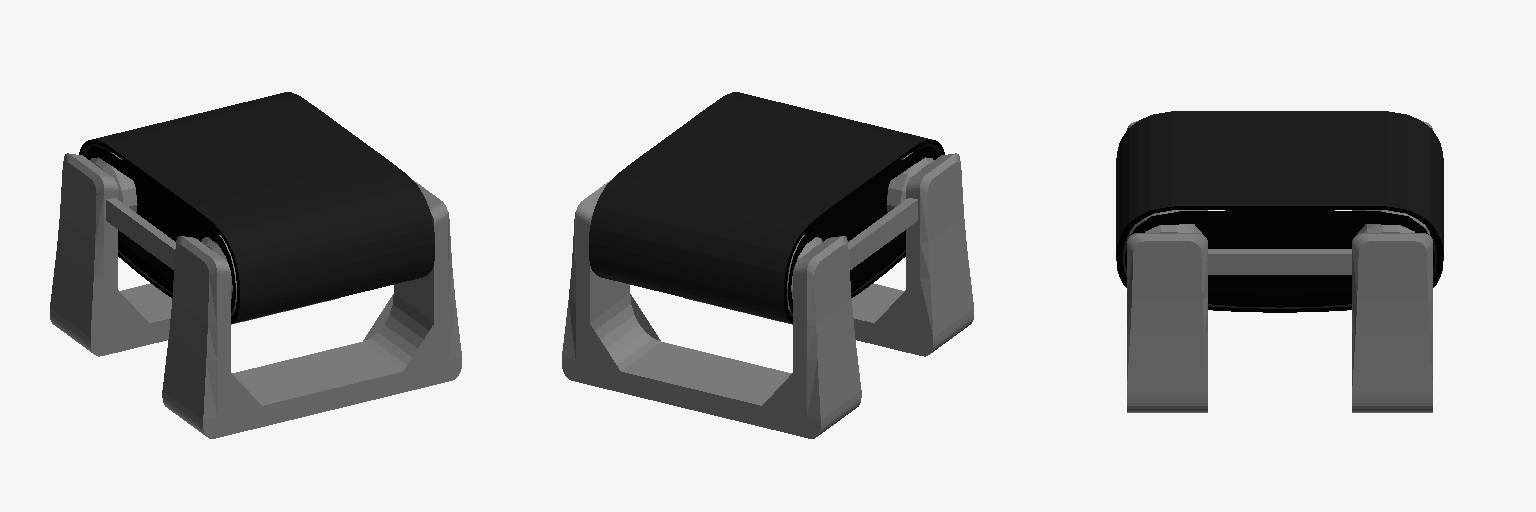
The model's file is conveyor1x1.obj.
3 renders of one model, left to right at view 1: azimuth 30°, elevation 25°; view 2: azimuth 150°, elevation 25°; view 3: azimuth 270°, elevation 25°, orthographic.
Visible parts, largest first — view 1: legs.001, belt.001, sides.001, bars.001, motors.001; view 2: legs.001, belt.001, sides.001, bars.001, motors.001; view 3: belt.001, legs.001, sides.001, bars.001, motors.001.
Part boxes in pixels (bbox=[...]): legs.001: bbox=[50, 153, 461, 438]; belt.001: bbox=[79, 92, 434, 323]; sides.001: bbox=[84, 146, 235, 312]; bars.001: bbox=[106, 198, 175, 269]; motors.001: bbox=[90, 152, 236, 309]; legs.001: bbox=[562, 153, 973, 438]; belt.001: bbox=[589, 92, 944, 323]; sides.001: bbox=[788, 146, 939, 312]; bars.001: bbox=[848, 198, 917, 269]; motors.001: bbox=[787, 152, 933, 309]; belt.001: bbox=[1116, 111, 1443, 312]; legs.001: bbox=[1127, 121, 1432, 412]; sides.001: bbox=[1125, 210, 1434, 307]; bars.001: bbox=[1208, 249, 1351, 274]; motors.001: bbox=[1130, 210, 1429, 234].
Bounding box in the file's own units: 0.9013 × 0.6505 × 0.9858.